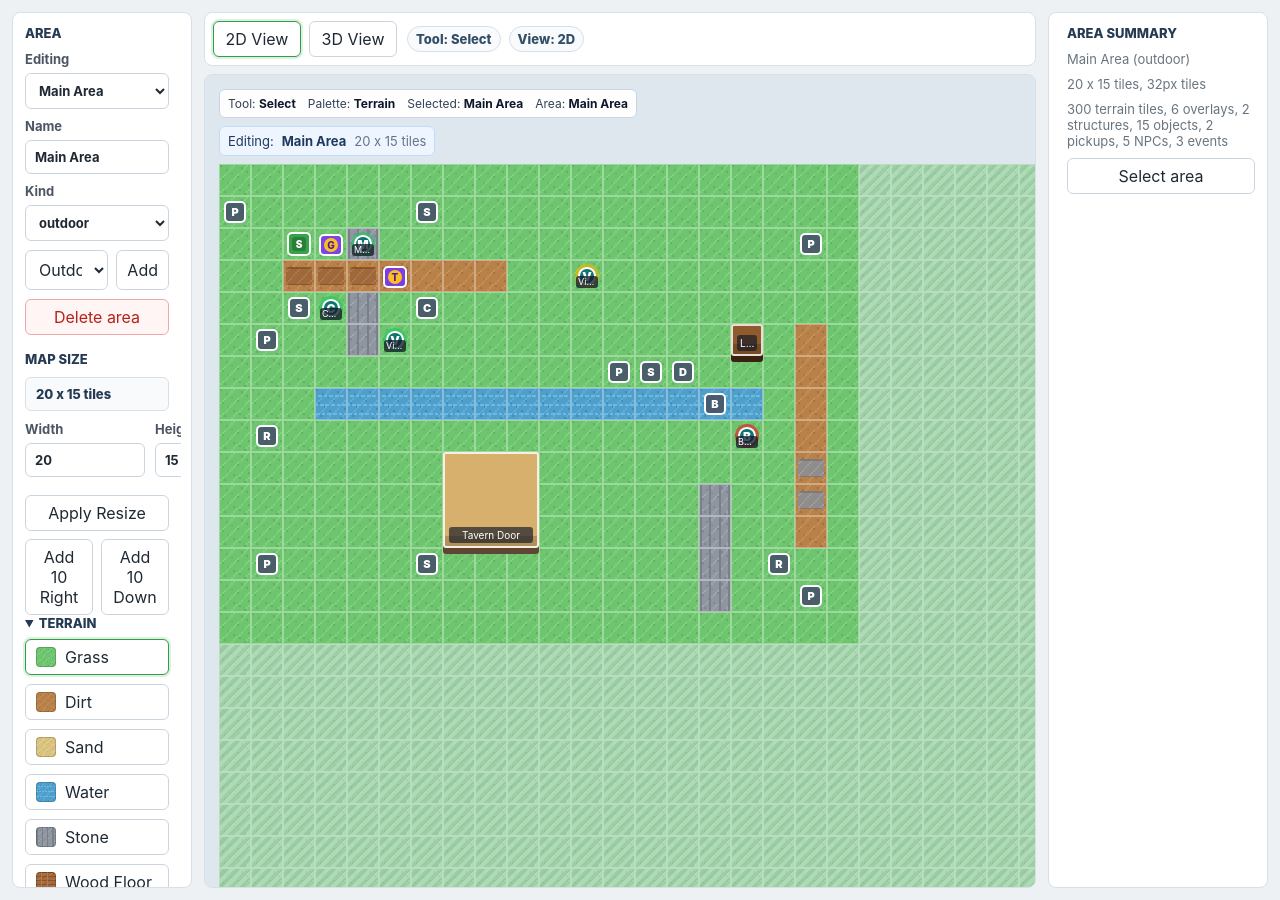
Test: ThreeDPreview › renders the Map workspace with a 2D/3D view toggle
Expected: the button "2D View" is shown, [213,21,301,57]
Expected: the element named "Map editing canvas" is shown, [204,74,1036,888]
Click the button "3D View" at coordinates (353, 39), box [309,21,397,57]
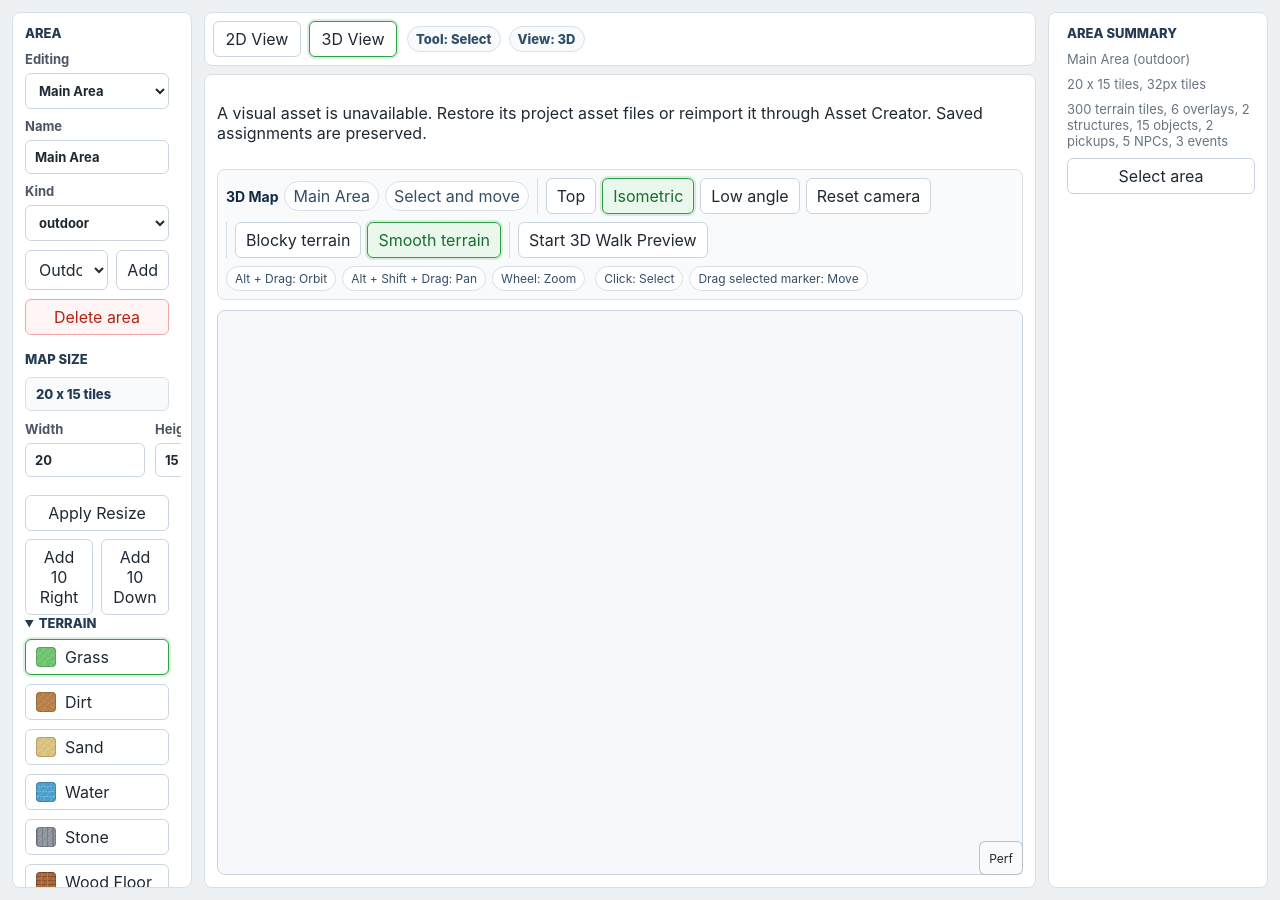
Expected: the text "View: 3D" is shown, [509,26,584,52]
Expected: the picture named "3D preview viewport" is shown, [217,310,1023,875]
